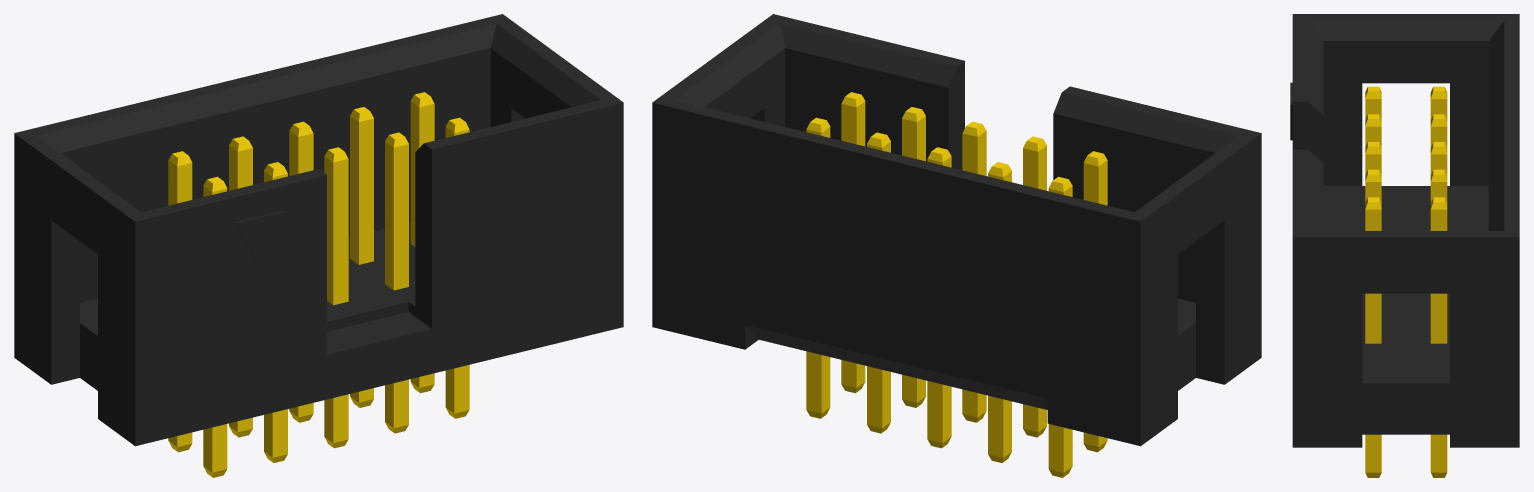
3 renders of one model, left to right at view 1: azimuth 30°, elevation 25°; view 2: azimuth 150°, elevation 25°; view 3: azimuth 270°, elevation 25°, orthographic. The views are drawn at different scales.
Visible parts, largest first — view 1: IDC (CONNFLY); view 2: IDC (CONNFLY); view 3: IDC (CONNFLY).
Boxes of the visible parts, x1,y1,x2,y2 form: IDC (CONNFLY): (14,14,623,477); IDC (CONNFLY): (652,14,1261,477); IDC (CONNFLY): (1290,14,1519,477).
Bounding box in the file's own units: 0.0205 × 0.0126 × 0.0089.
